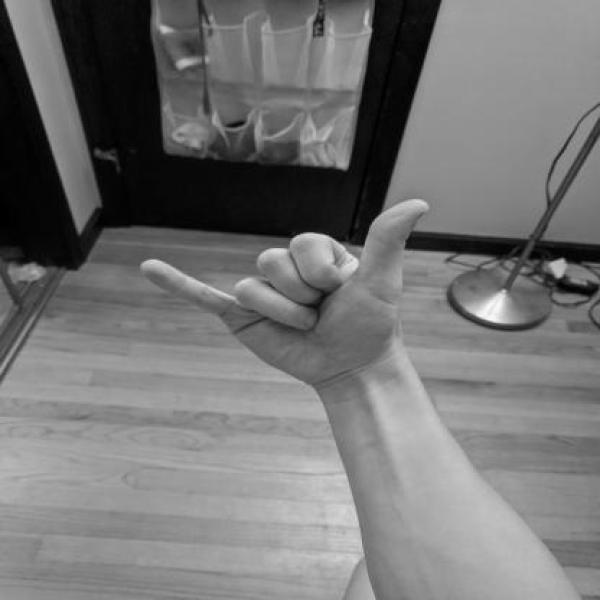Y: (136, 195, 437, 392)
